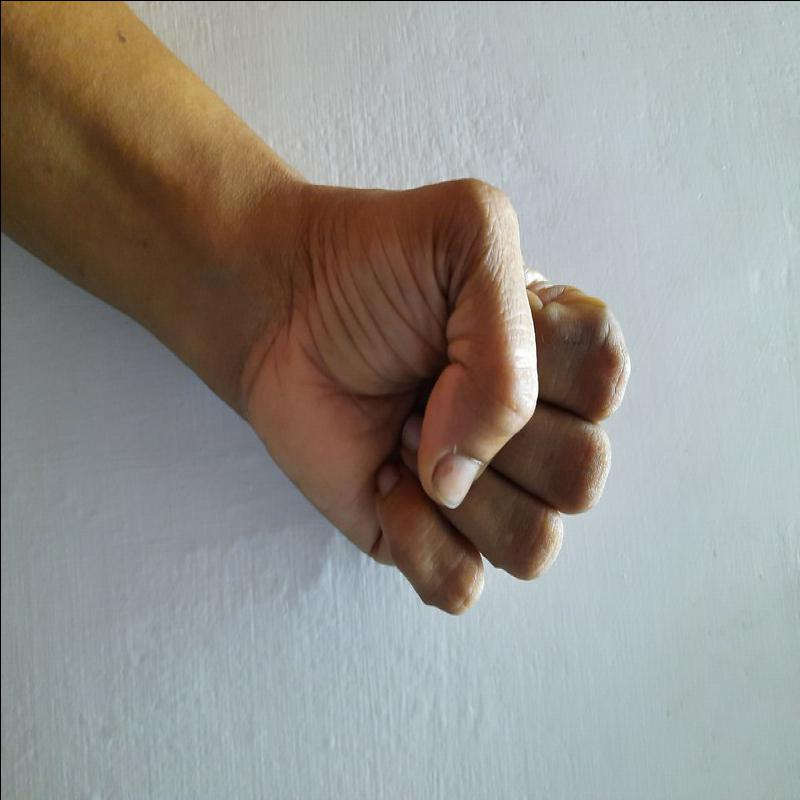Mushti: (222, 168, 633, 630)
